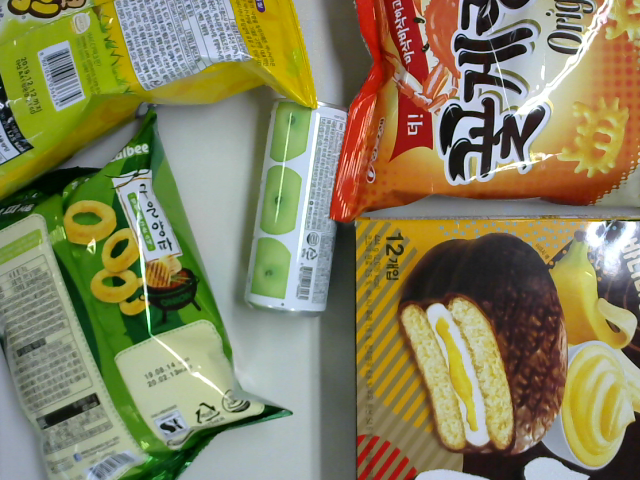Banana_Kick: (1, 1, 319, 210)
Choco_Pie_Banana: (348, 212, 640, 479)
Crabrang: (321, 1, 640, 224)
Demisoda_Apple_Can_250ml: (235, 91, 353, 320)
Grilled_Onions: (1, 102, 295, 478)
